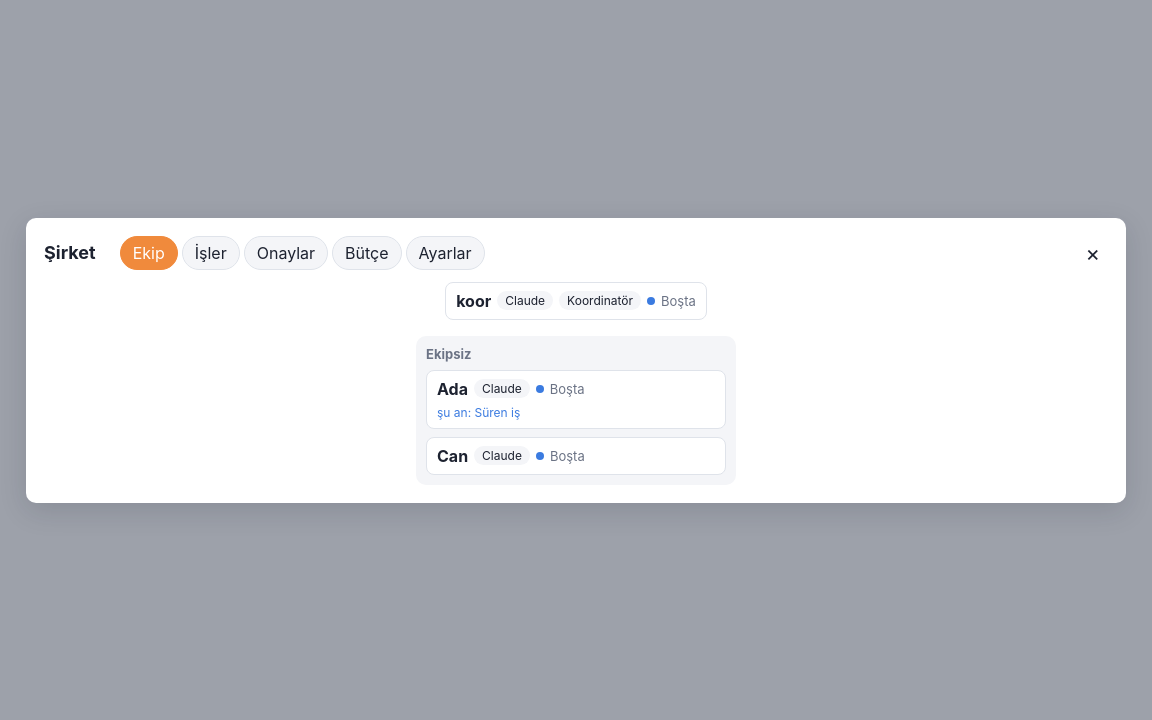
Test: CompanyView › puts tasks in columns by state and filters them by person
Click the tab "İşler": (211, 252) [182,236,240,270]
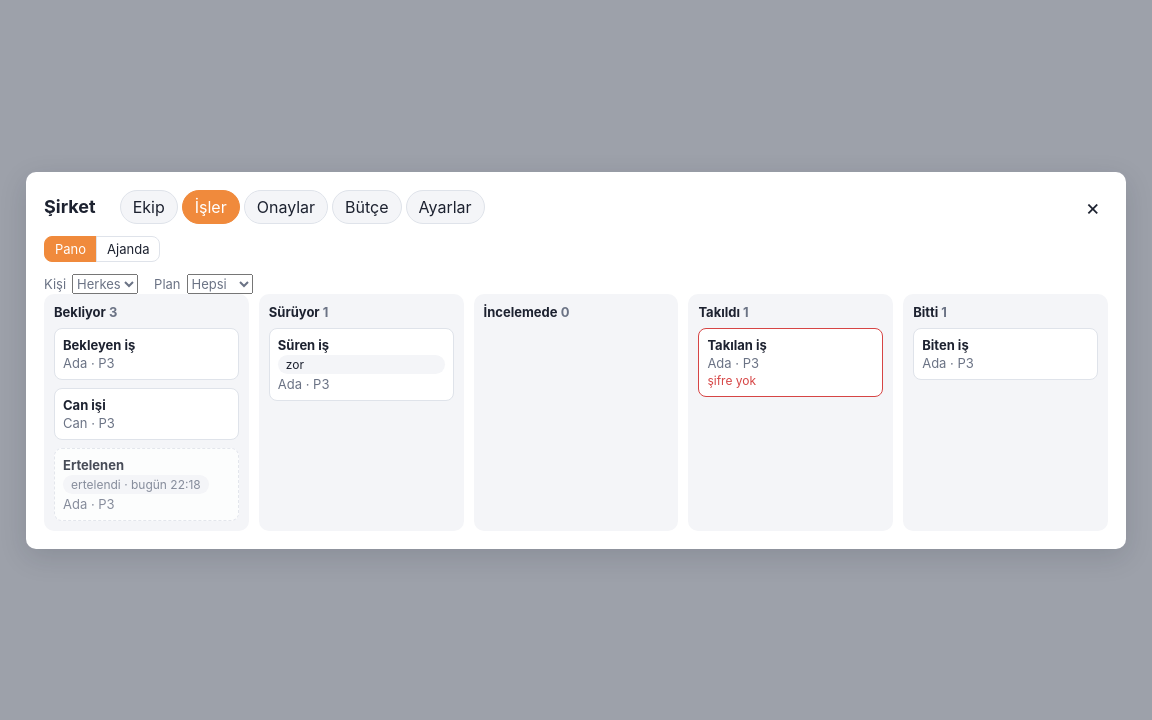
Result: the text "Bekleyen iş" is shown at [63,336,135,352]
Result: the text "şifre yok" is shown at [707,372,756,388]
Result: the text "Biten iş" is shown at [922,336,969,352]
Select "Can" in the dropdown labelled "Kişi": (105, 284) [72,274,138,294]
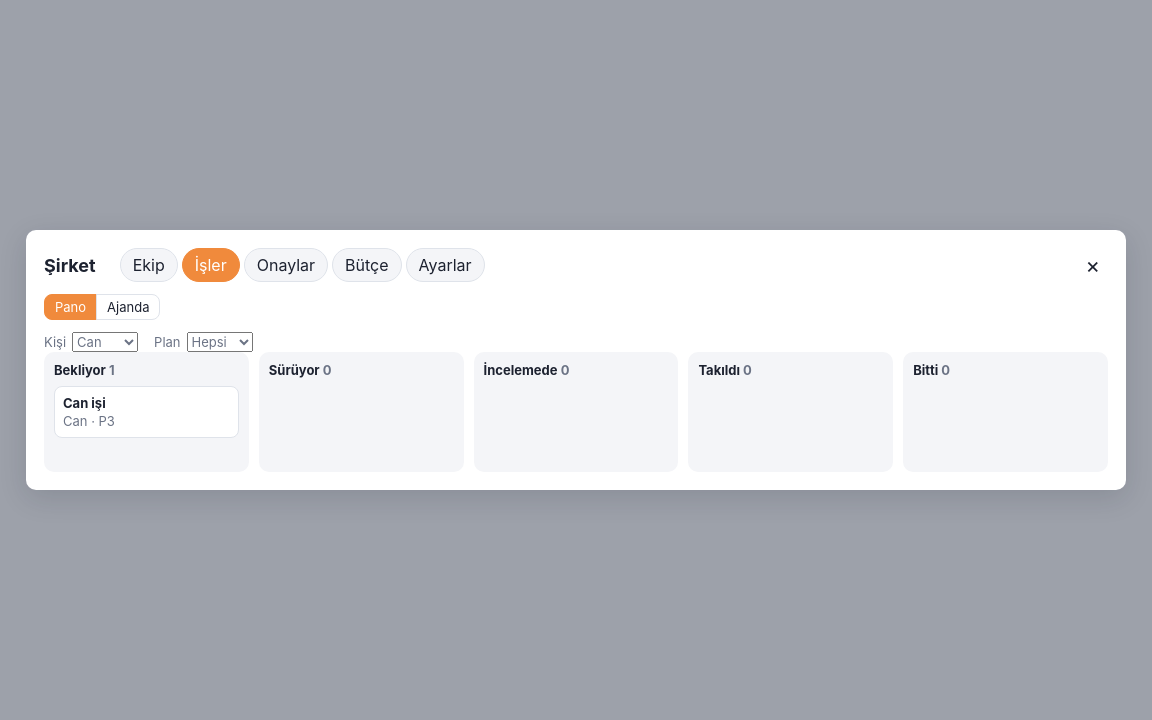
Result: the text "Can işi" is shown at [63,395,106,411]
Result: the text "Bekleyen iş" is gone
